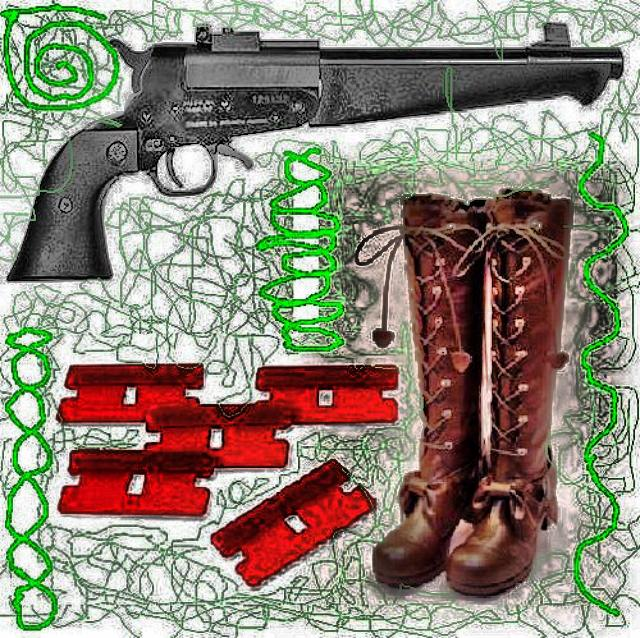pistol: (3, 21, 623, 279)
